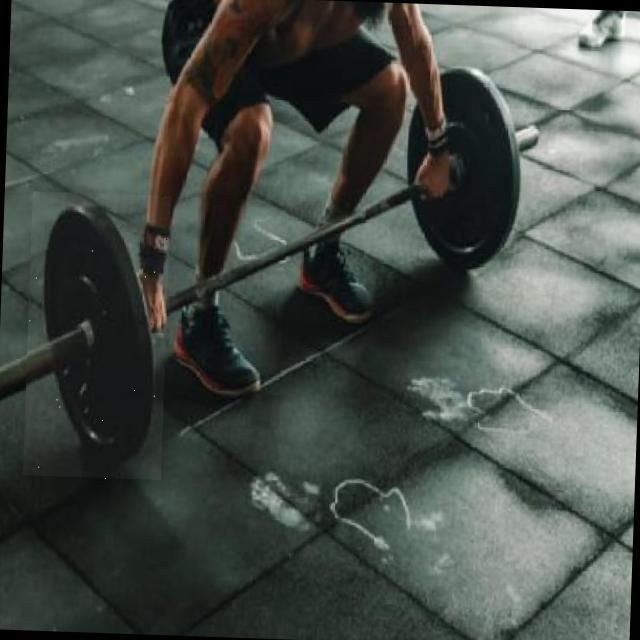barbell: (24, 192, 172, 483)
